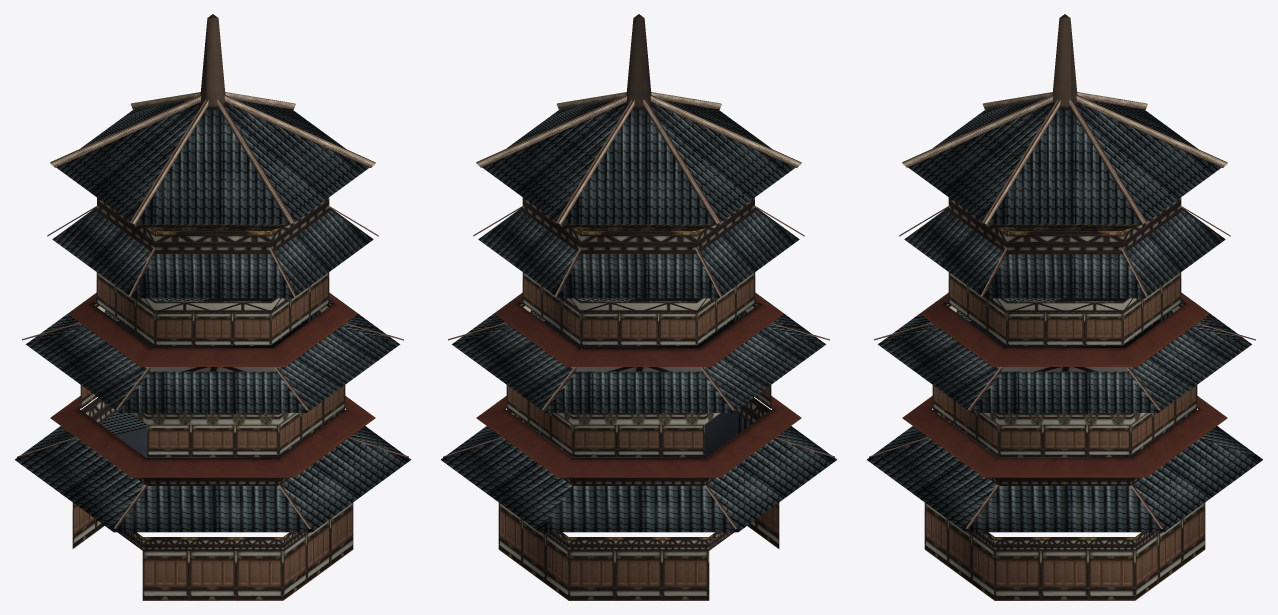
The model's file is BG_house_01.FBX.
3 renders of one model, left to right at view 1: azimuth 30°, elevation 25°; view 2: azimuth 150°, elevation 25°; view 3: azimuth 270°, elevation 25°, orthographic.
Parts seen in each view (by area): view 1: BG building_01; view 2: BG building_01; view 3: BG building_01.
Part boxes in pixels (x1,y1,x2,y2): BG building_01: (15,14,410,600); BG building_01: (441,14,836,600); BG building_01: (867,14,1262,600).
Bounding box in the file's own units: 12.78 × 21.85 × 14.76.
